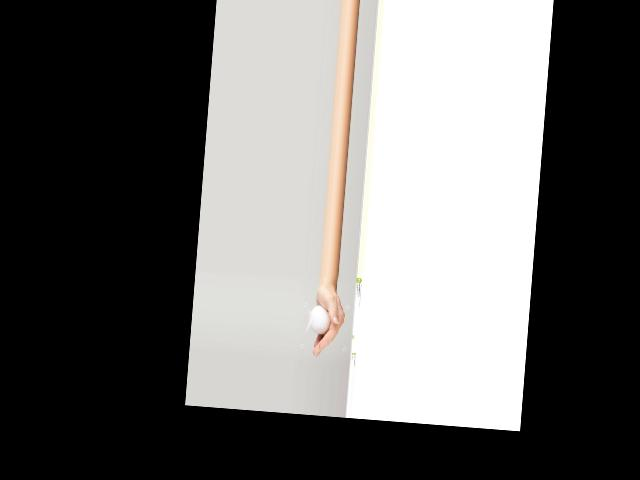egg: (309, 304, 331, 335)
